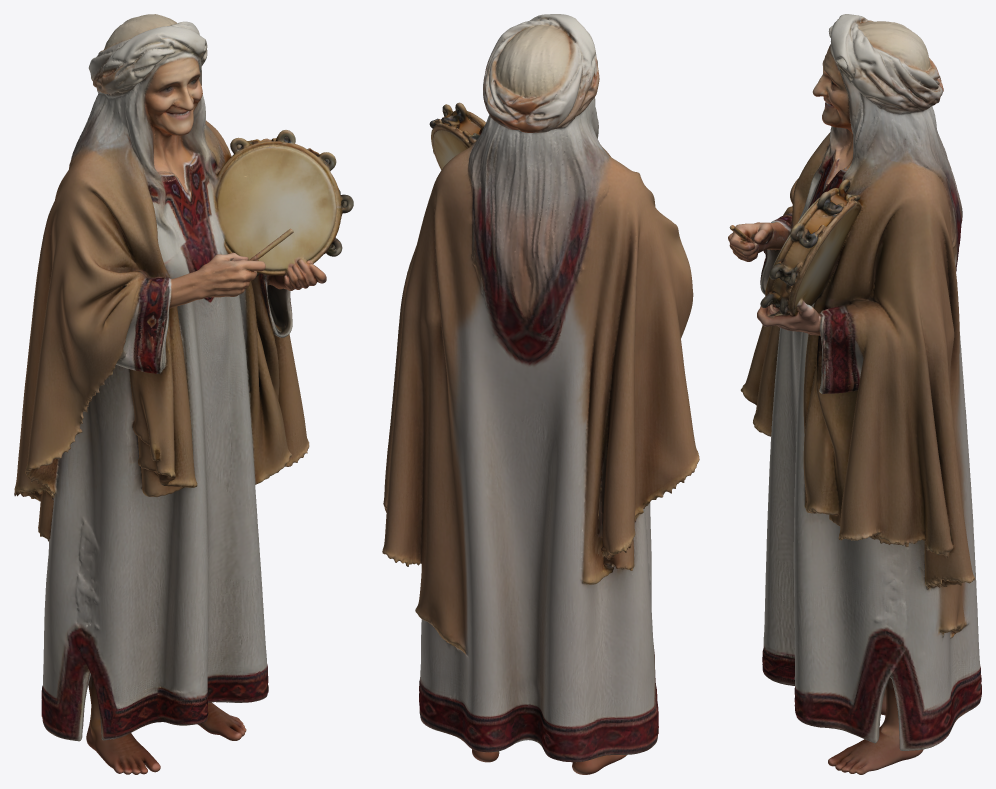
File: Meshy_AI_miriam_0212024829_texture.glb
3 renders of one model, left to right at view 1: azimuth 30°, elevation 25°; view 2: azimuth 150°, elevation 25°; view 3: azimuth 270°, elevation 25°, orthographic. The views are drawn at different scales.
Bounding box in the file's own units: 0.8395 × 2 × 0.6426.
Materials: 1 (1 with a texture image).
